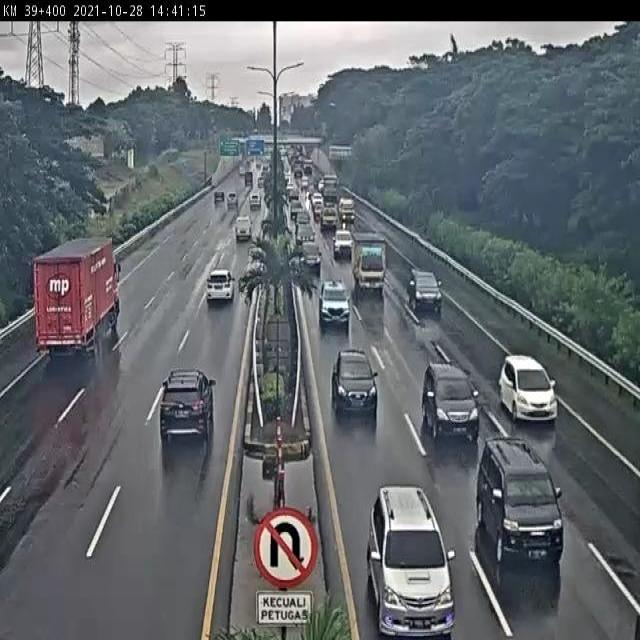car: (366, 486, 456, 640), (476, 437, 564, 563), (422, 363, 479, 441), (158, 368, 215, 443), (498, 354, 559, 422), (331, 350, 378, 418), (319, 279, 351, 329), (407, 268, 443, 312), (206, 271, 234, 304), (300, 241, 321, 272)
mid truck: (32, 236, 122, 356)
truck-m-: (351, 233, 386, 292)
